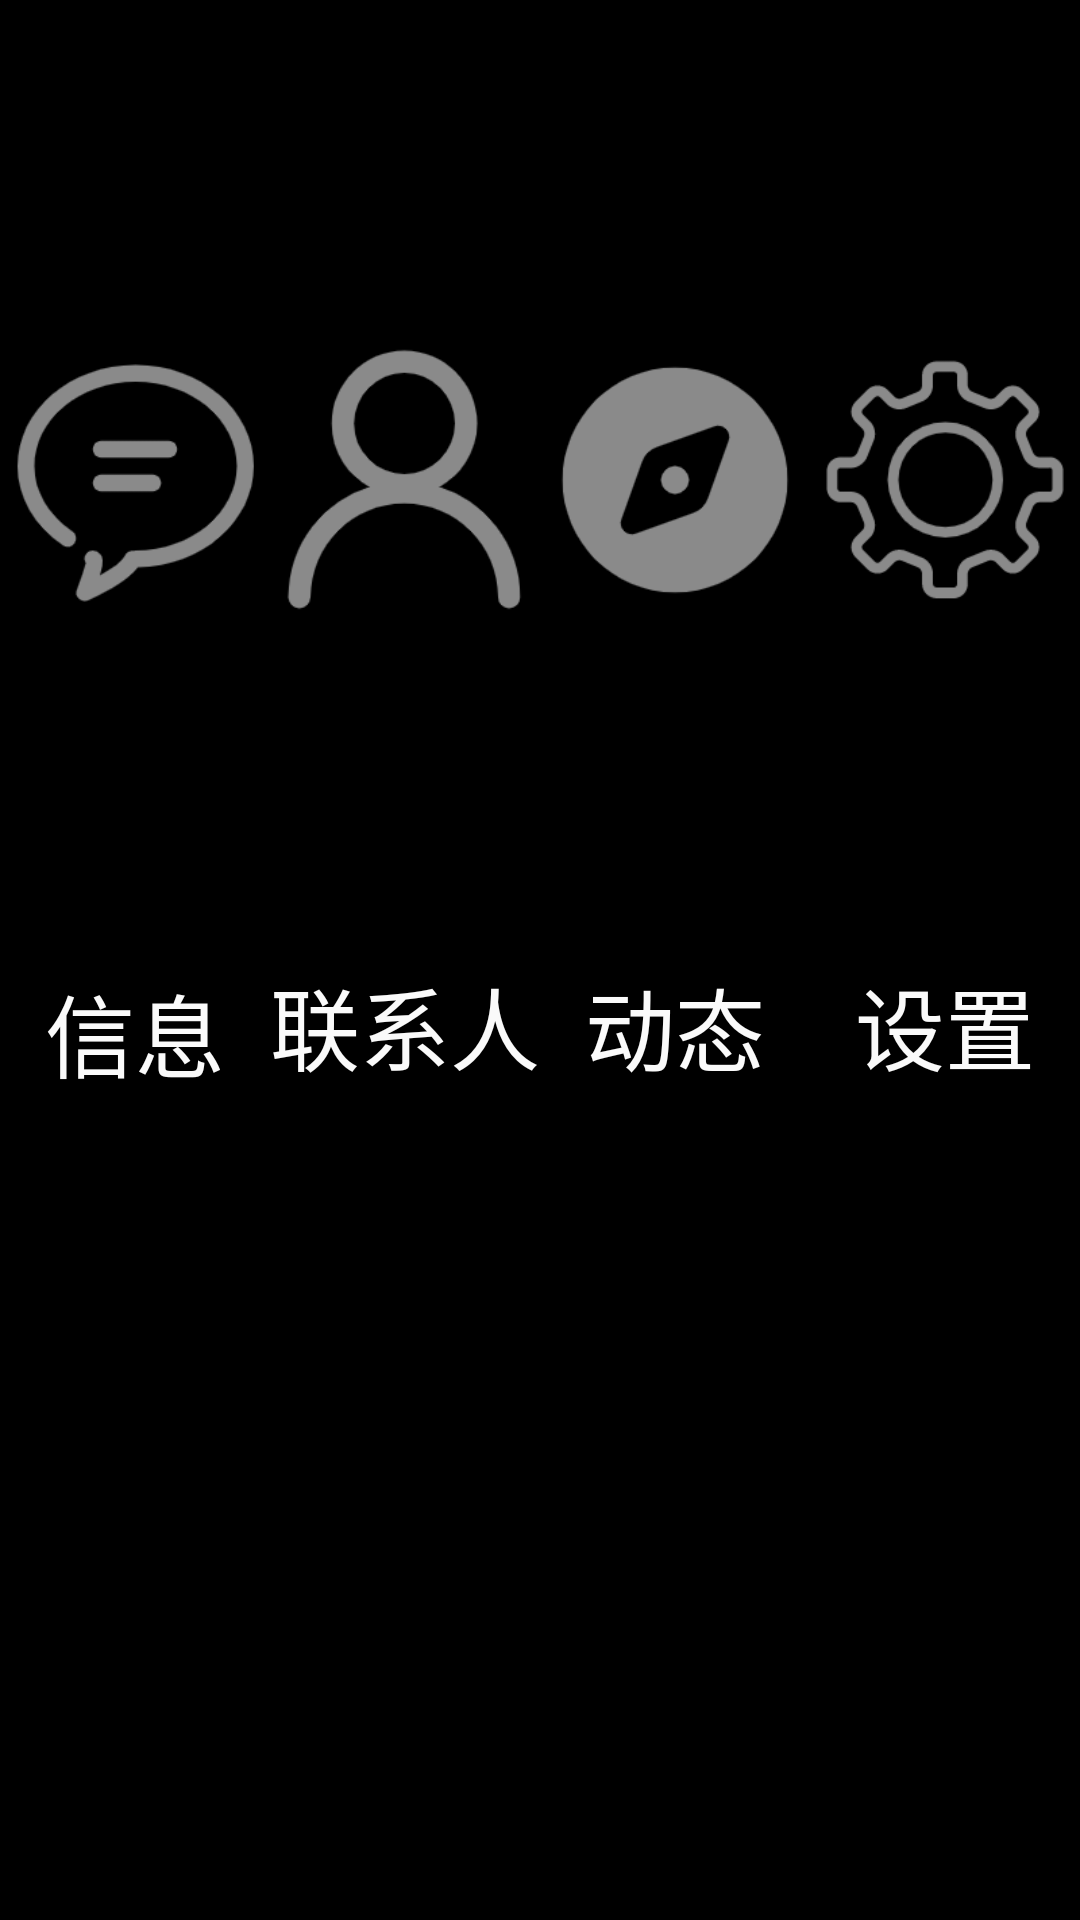

Screen size 1080x1920. Icon name, then its center in pixels as [x,y]:
discover: [675,480]
message: [135,483]
people: [404,479]
settings: [945,479]
